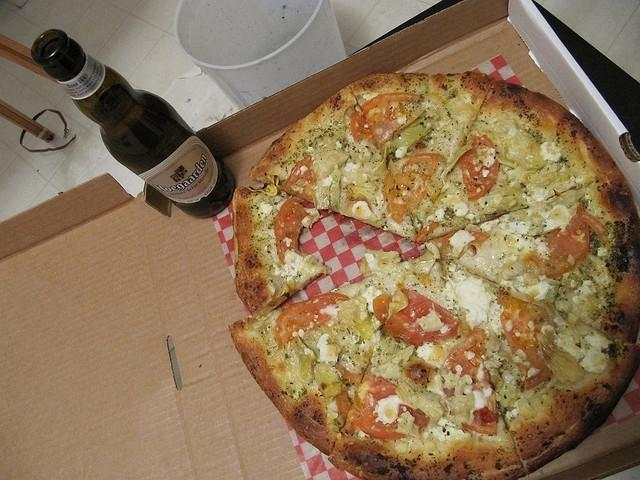tomato: (526, 200, 610, 278), (496, 286, 554, 391), (372, 288, 462, 348), (272, 292, 350, 350), (382, 152, 444, 224), (350, 92, 424, 146), (352, 377, 406, 440), (442, 326, 495, 390), (460, 134, 500, 202), (272, 199, 308, 263), (283, 156, 317, 202)
